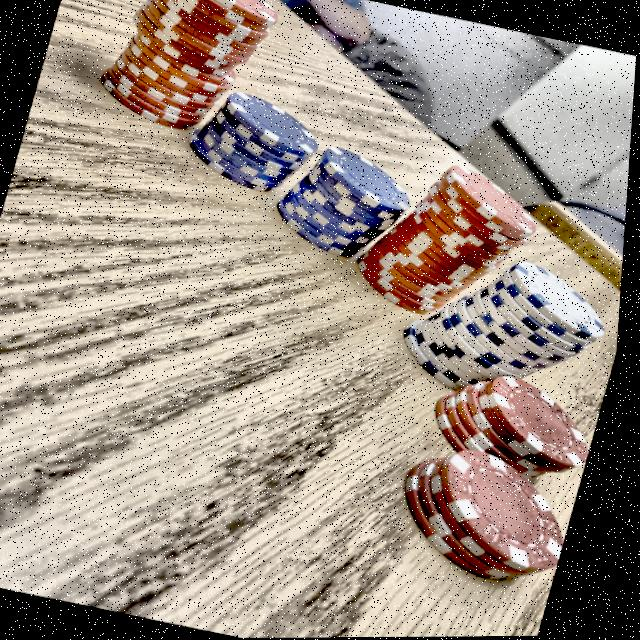Chip: (383, 234, 620, 424), (336, 134, 554, 340), (362, 434, 585, 598), (86, 0, 293, 158), (257, 123, 429, 284), (403, 360, 606, 489), (180, 76, 334, 210)
